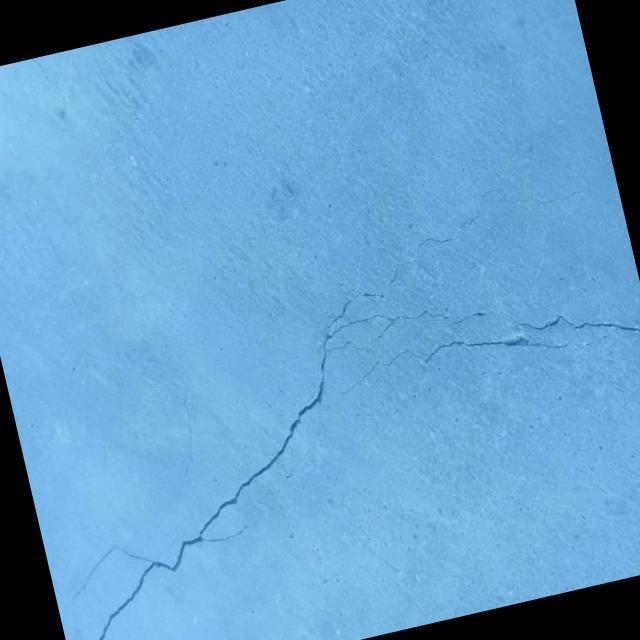crack: (0, 201, 571, 640), (334, 304, 608, 402), (517, 294, 640, 363), (499, 178, 592, 215)
